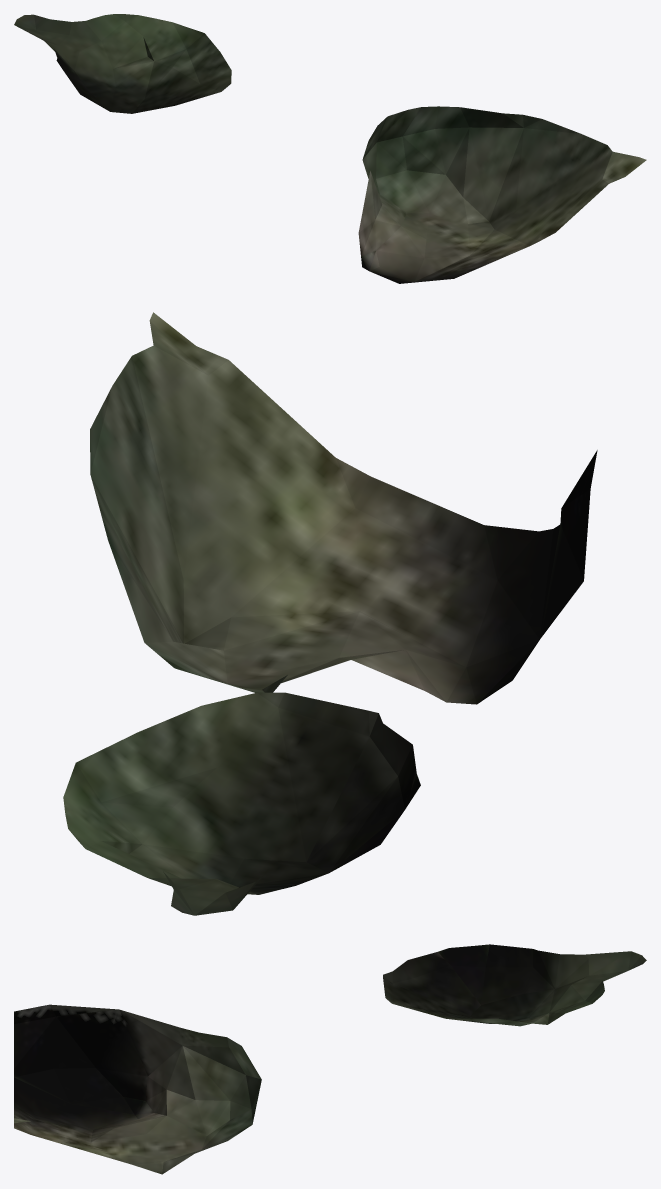
The picture shows the model from 3 angles, top to bottom: view 1: azimuth 30°, elevation 25°; view 2: azimuth 150°, elevation 25°; view 3: azimuth 270°, elevation 25°; orthographic projection. The views are drawn at different scales.
Size of the model in its own units: 4.61 by 1.29 by 6.94.
1 material, 1 textured.
